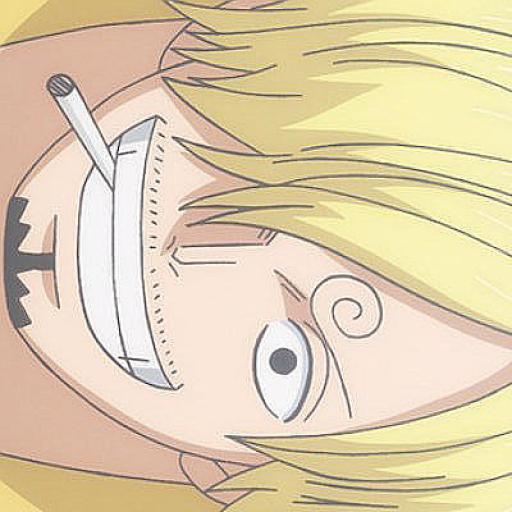sanji: (0, 2, 512, 512)
